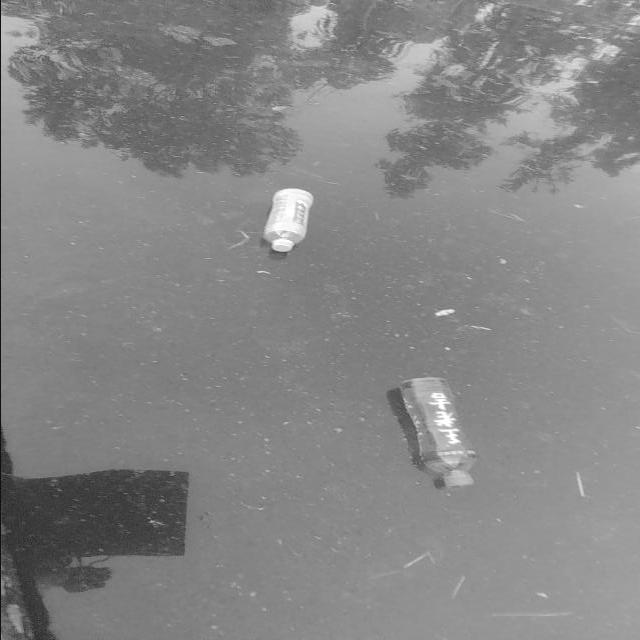bottle: (376, 356, 500, 503), (252, 175, 326, 269)
